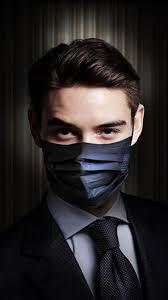mask: (36, 135, 144, 208)
